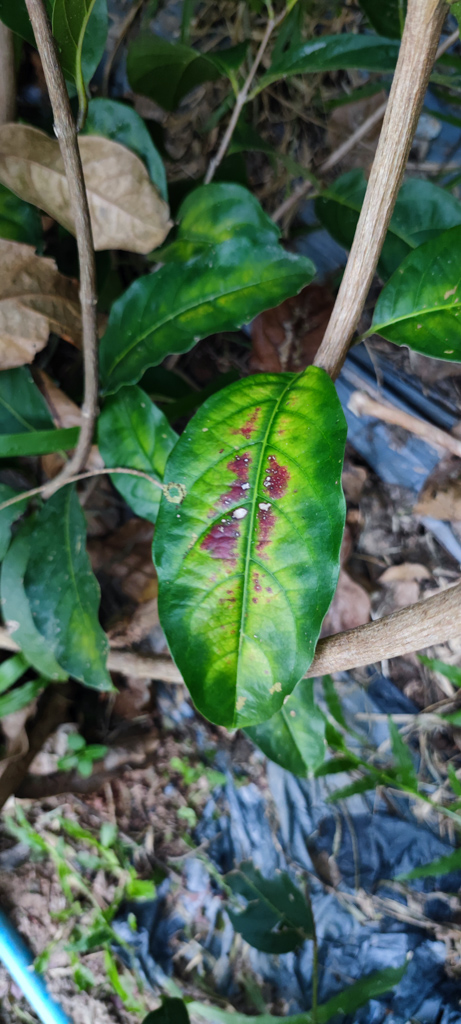Canker: (198, 390, 316, 640), (209, 451, 252, 511), (197, 519, 240, 576), (253, 507, 284, 567), (263, 452, 290, 501), (233, 401, 259, 442), (274, 398, 294, 442)
